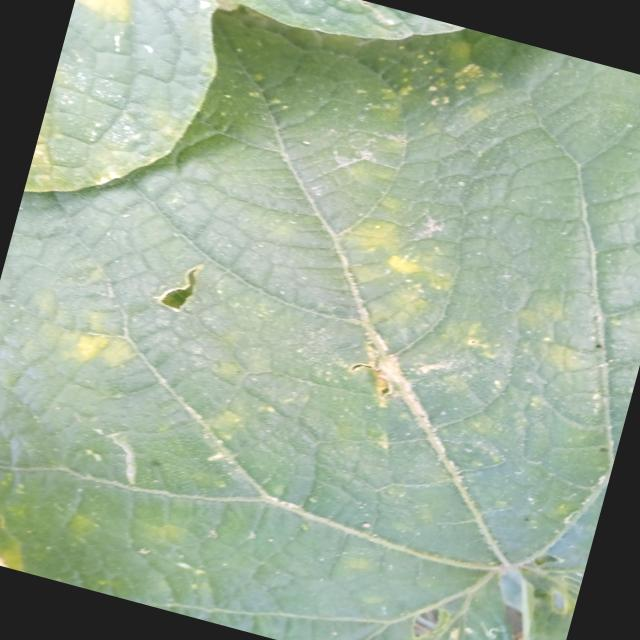cucumber_downy: (180, 0, 640, 533), (0, 229, 458, 626), (27, 0, 231, 229)
